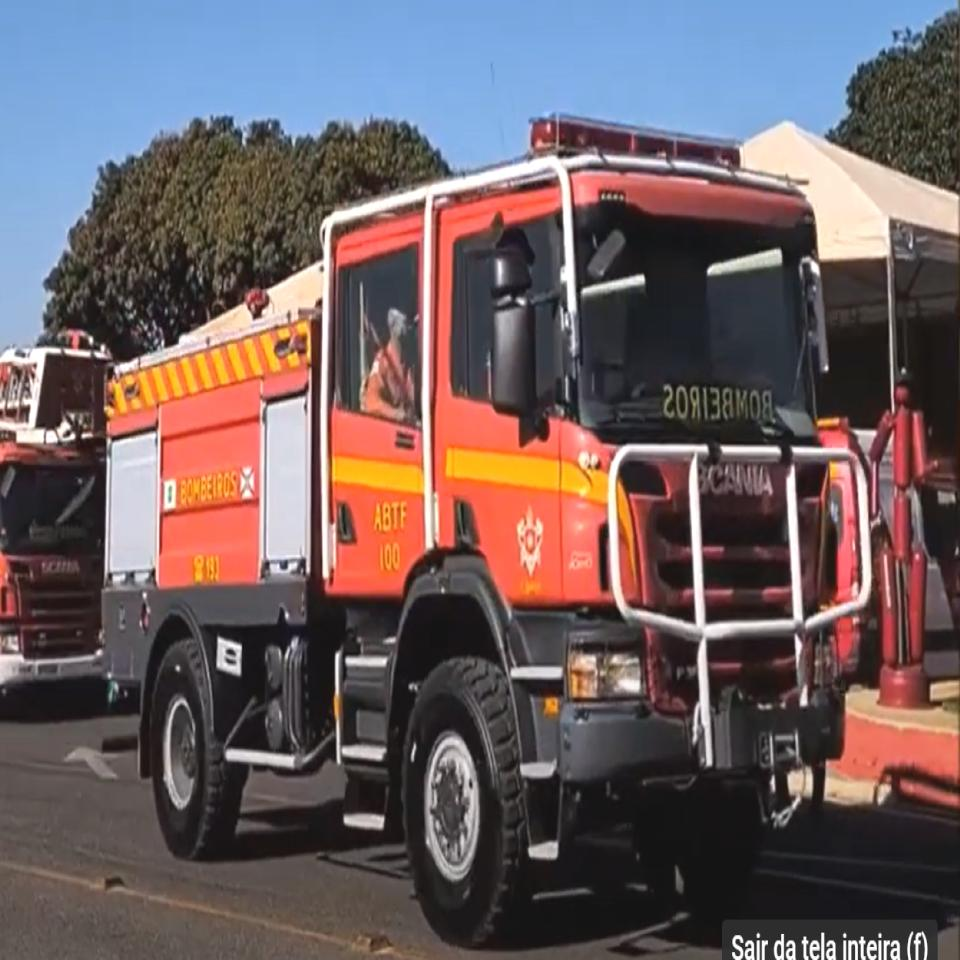bombeiro: (101, 115, 873, 946), (0, 328, 113, 714)
